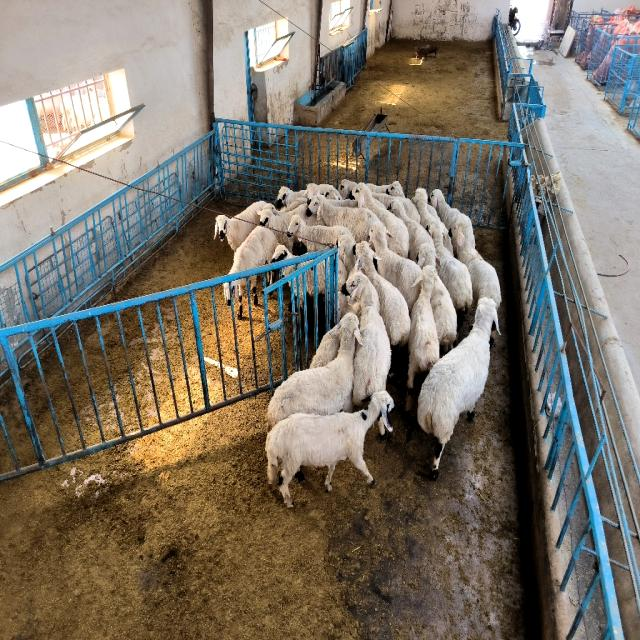sheep: (418, 298, 498, 476), (266, 313, 361, 431), (342, 272, 391, 407), (355, 242, 410, 348), (405, 265, 441, 412), (449, 220, 501, 308), (349, 183, 409, 258), (429, 225, 472, 311), (309, 195, 379, 242), (390, 200, 436, 268), (214, 200, 274, 251), (259, 203, 318, 251), (431, 188, 475, 248), (412, 188, 452, 253), (288, 215, 351, 252), (229, 225, 278, 272), (430, 277, 458, 352), (386, 182, 420, 222), (224, 278, 246, 318), (338, 235, 356, 274), (275, 187, 305, 208), (270, 243, 295, 263), (281, 264, 305, 277), (250, 275, 259, 304), (305, 268, 314, 296), (318, 262, 325, 292), (299, 277, 302, 299)
